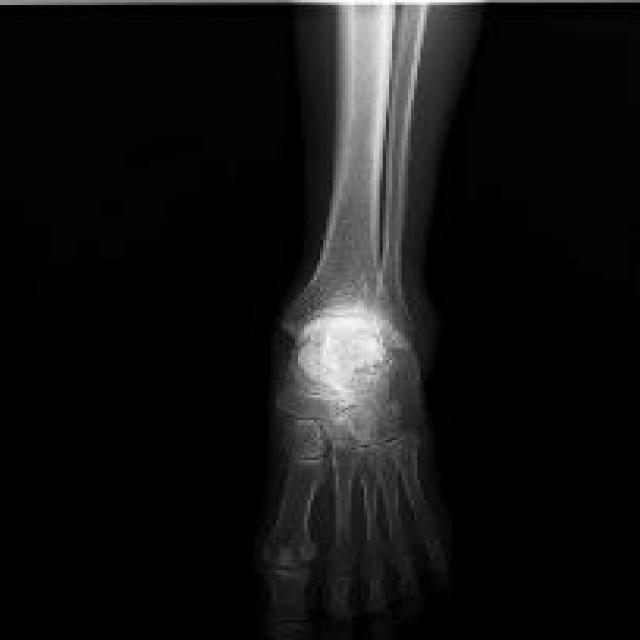normal: (259, 5, 447, 640)
